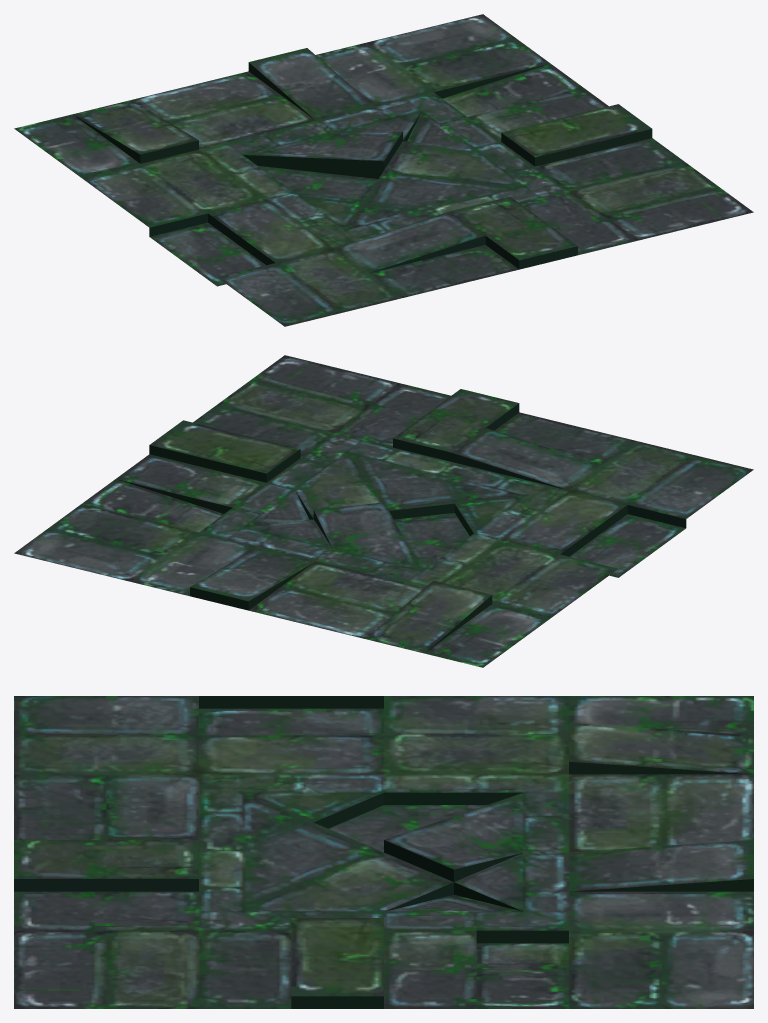
File: stemple_floor_blank_01_f.fbx
The picture shows the model from 3 angles, top to bottom: view 1: azimuth 30°, elevation 25°; view 2: azimuth 150°, elevation 25°; view 3: azimuth 270°, elevation 25°; orthographic projection. The views are drawn at different scales.
Visible parts, largest first — view 1: stemple_floor_blank_01_f-0; view 2: stemple_floor_blank_01_f-0; view 3: stemple_floor_blank_01_f-0.
Part boxes in pixels (bbox=[...]): stemple_floor_blank_01_f-0: bbox=[14, 14, 753, 326]; stemple_floor_blank_01_f-0: bbox=[14, 355, 753, 667]; stemple_floor_blank_01_f-0: bbox=[14, 696, 753, 1008].
Bounding box in the file's own units: 4 × 0.15 × 4.
